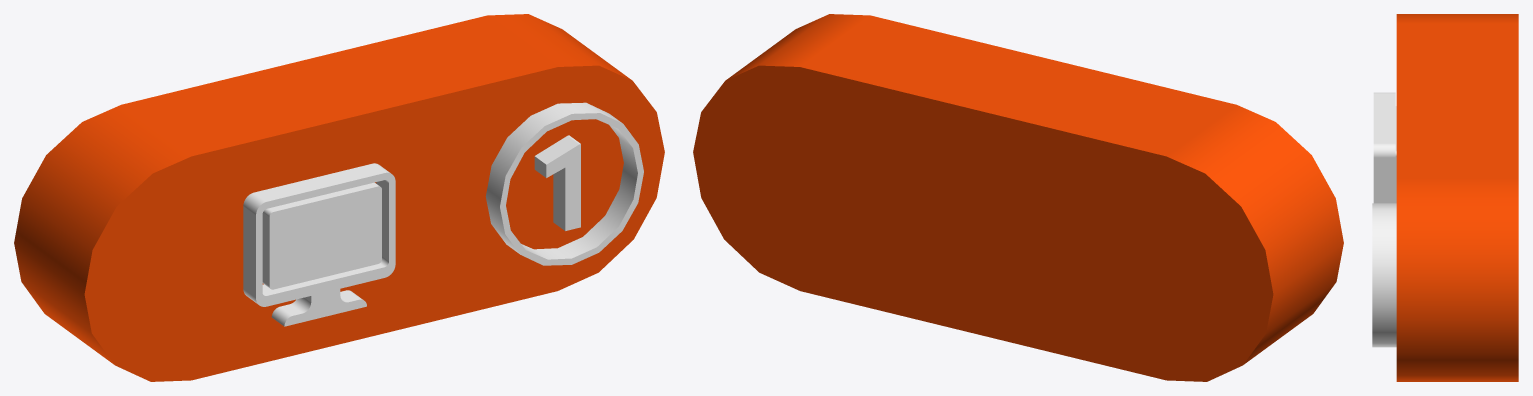
Rendered from Screen_1.fbx.
The picture shows the model from 3 angles, left to right: view 1: azimuth 30°, elevation 25°; view 2: azimuth 150°, elevation 25°; view 3: azimuth 270°, elevation 25°; orthographic projection. The views are drawn at different scales.
Visible parts, largest first — view 1: Orange, Object_4, Object_5, Object_1, Object_6; view 2: Orange; view 3: Orange, Object_1, Object_4, Object_5.
Part boxes in pixels (left/top/right/bottom): Orange: left=14, top=14, right=664, bottom=381; Object_4: left=243, top=163, right=395, bottom=326; Object_5: left=262, top=182, right=381, bottom=289; Object_1: left=485, top=102, right=643, bottom=265; Object_6: left=534, top=135, right=580, bottom=230; Orange: left=693, top=14, right=1343, bottom=381; Orange: left=1396, top=14, right=1518, bottom=381; Object_1: left=1372, top=203, right=1396, bottom=347; Object_4: left=1373, top=92, right=1395, bottom=203; Object_5: left=1395, top=106, right=1396, bottom=203.
Size of the model in its own units: 4.75 by 1.2 by 1.75.
